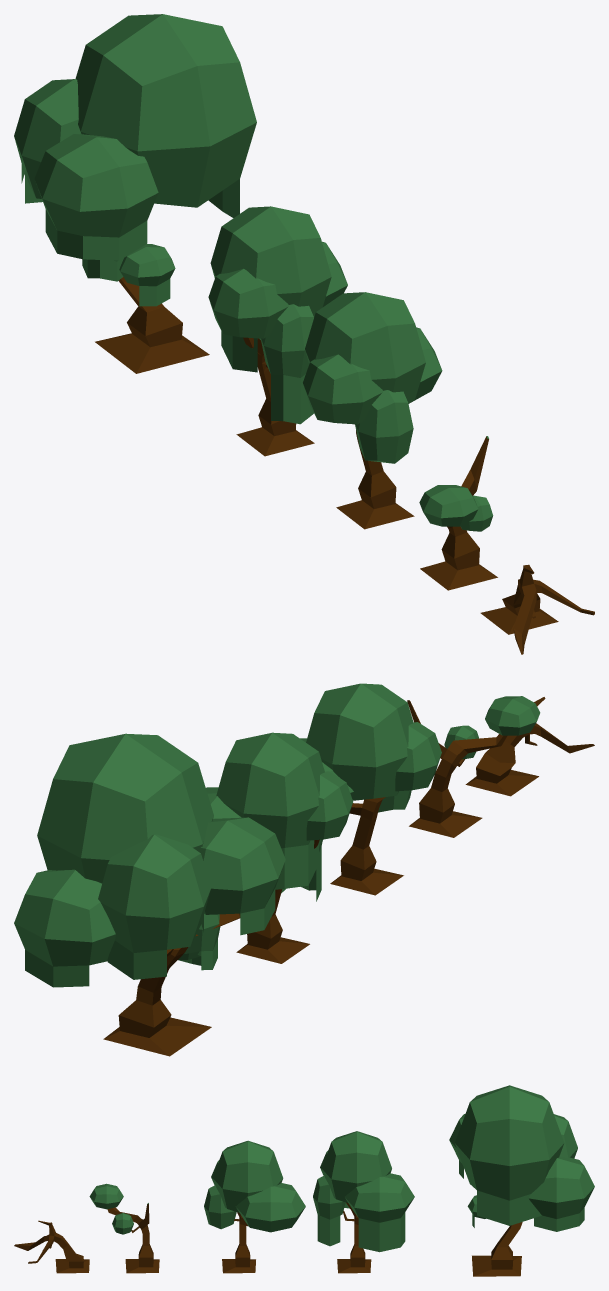
The model's file is Apple tree 3 stage.fbx.
3 views of the same model, one above another, from view 1: azimuth 30°, elevation 25°; view 2: azimuth 150°, elevation 25°; view 3: azimuth 270°, elevation 25° (orthographic). The views are drawn at different scales.
Visible parts, largest first — view 1: Cube.006, Cube.007, Cube, Plane.001, Plane.002; view 2: Cube.006, Cube.007, Cube, Plane.001, Plane.002; view 3: Cube.006, Cube.007, Cube, Plane.001, Plane.002.
Boxes of the visible parts, bbox=[...] form: Cube.006: bbox=[14, 14, 256, 373]; Cube.007: bbox=[208, 206, 347, 456]; Cube: bbox=[303, 292, 442, 529]; Plane.001: bbox=[419, 436, 497, 590]; Plane.002: bbox=[480, 564, 594, 654]; Cube.006: bbox=[14, 733, 285, 1056]; Cube.007: bbox=[206, 732, 353, 963]; Cube: bbox=[300, 683, 441, 895]; Plane.001: bbox=[407, 696, 540, 837]; Plane.002: bbox=[465, 697, 594, 796]; Cube.006: bbox=[449, 1085, 594, 1276]; Cube.007: bbox=[313, 1131, 414, 1273]; Cube: bbox=[204, 1140, 305, 1273]; Plane.001: bbox=[89, 1183, 159, 1273]; Plane.002: bbox=[14, 1220, 89, 1273].
Size of the model in its own units: 1696 by 2328 by 6606.
